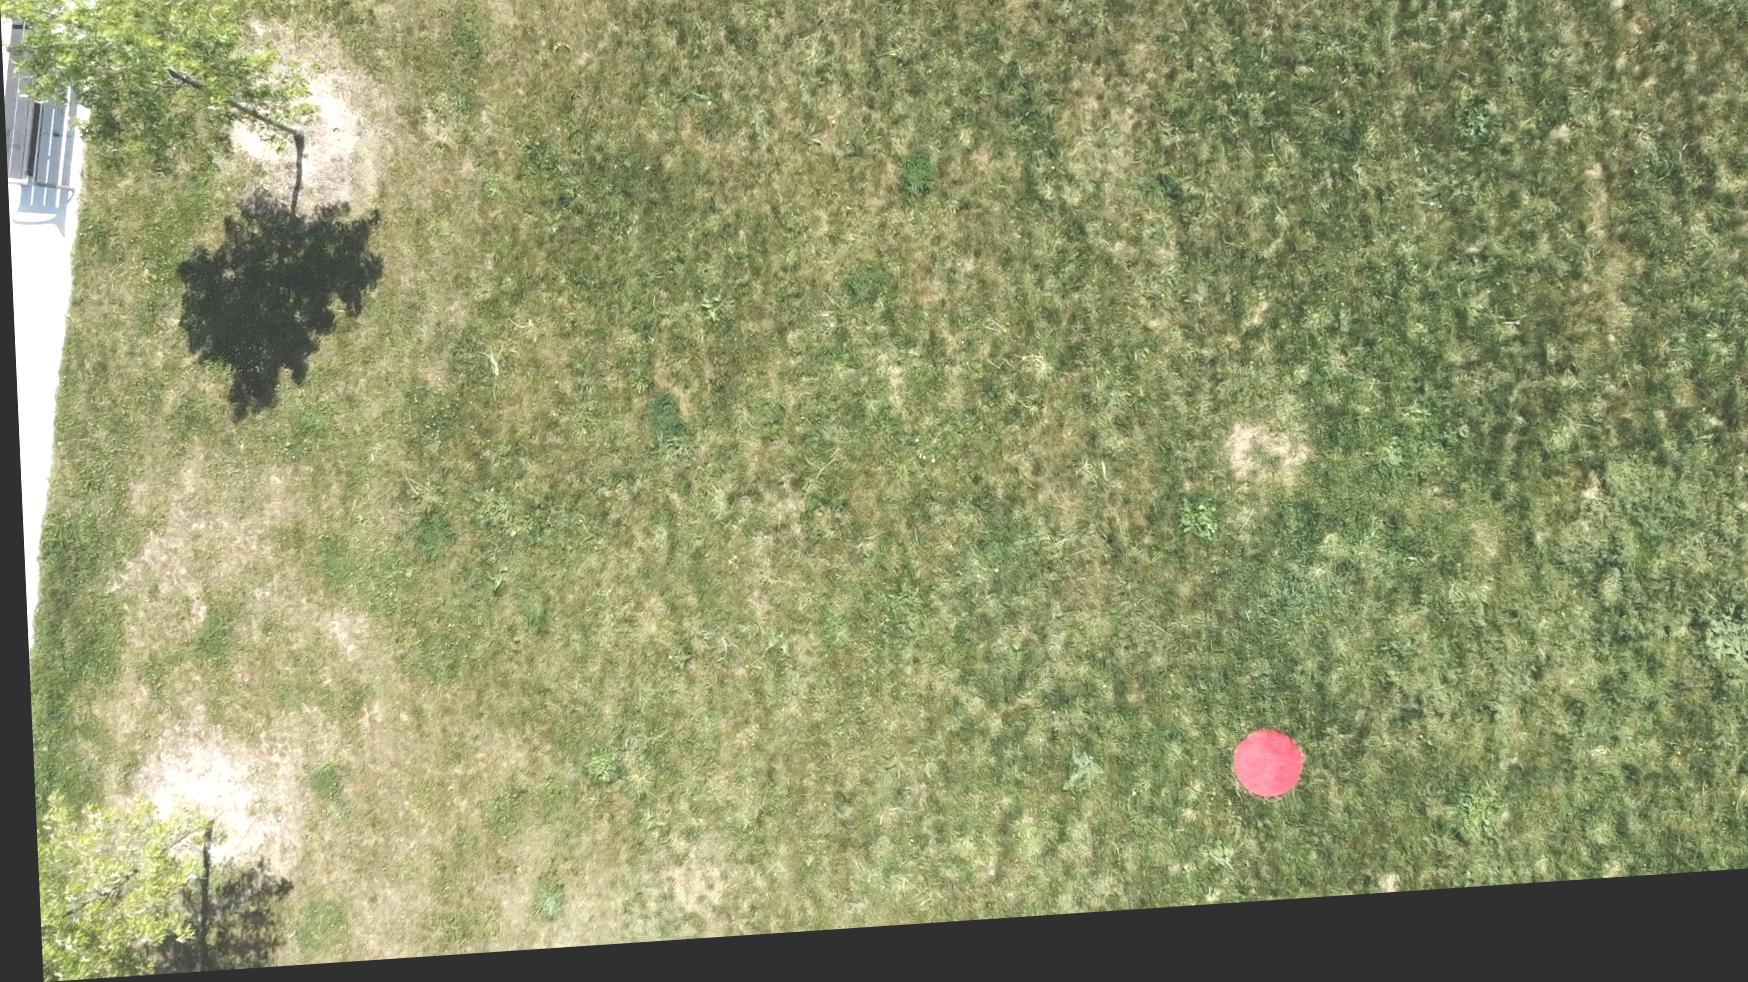Red: (1222, 741, 1300, 820)
